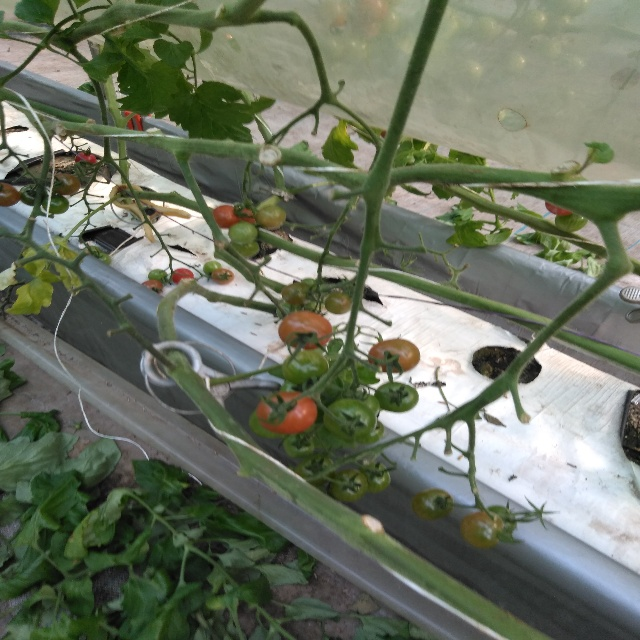l_fully_ripened: (255, 391, 318, 435), (213, 205, 240, 229), (544, 201, 573, 216), (171, 268, 194, 285), (75, 151, 97, 167)
l_green: (324, 398, 377, 441), (281, 351, 329, 386), (373, 382, 420, 413), (293, 455, 335, 486), (411, 489, 453, 520), (330, 468, 368, 502), (359, 463, 390, 493), (484, 506, 517, 534), (355, 419, 384, 445), (284, 434, 315, 458), (228, 221, 258, 245), (19, 183, 49, 206), (554, 212, 588, 231), (42, 194, 70, 215), (230, 240, 260, 257), (148, 269, 169, 285), (202, 261, 223, 276)
l_half_ripened: (278, 310, 333, 349), (367, 339, 422, 373), (460, 509, 505, 549), (255, 205, 286, 231), (282, 283, 315, 306), (48, 173, 80, 196), (324, 292, 352, 314), (0, 182, 21, 207), (211, 269, 235, 284), (142, 280, 163, 293)
